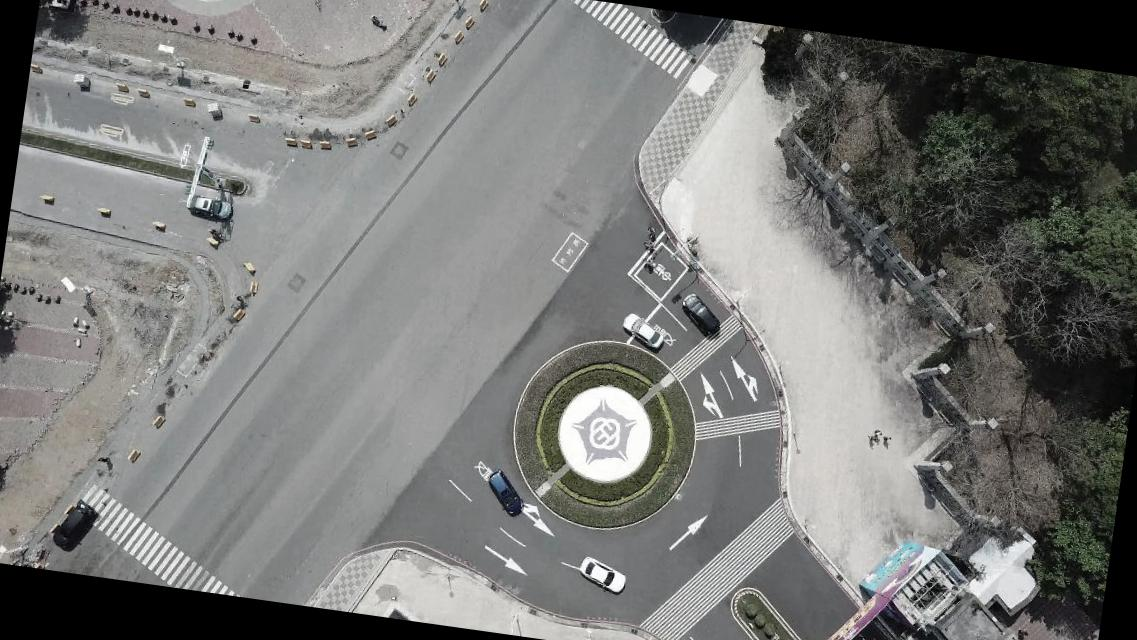vehicle: (51, 498, 99, 555), (478, 467, 530, 519), (676, 292, 723, 342), (576, 555, 628, 597), (620, 312, 668, 354), (186, 195, 234, 222)
